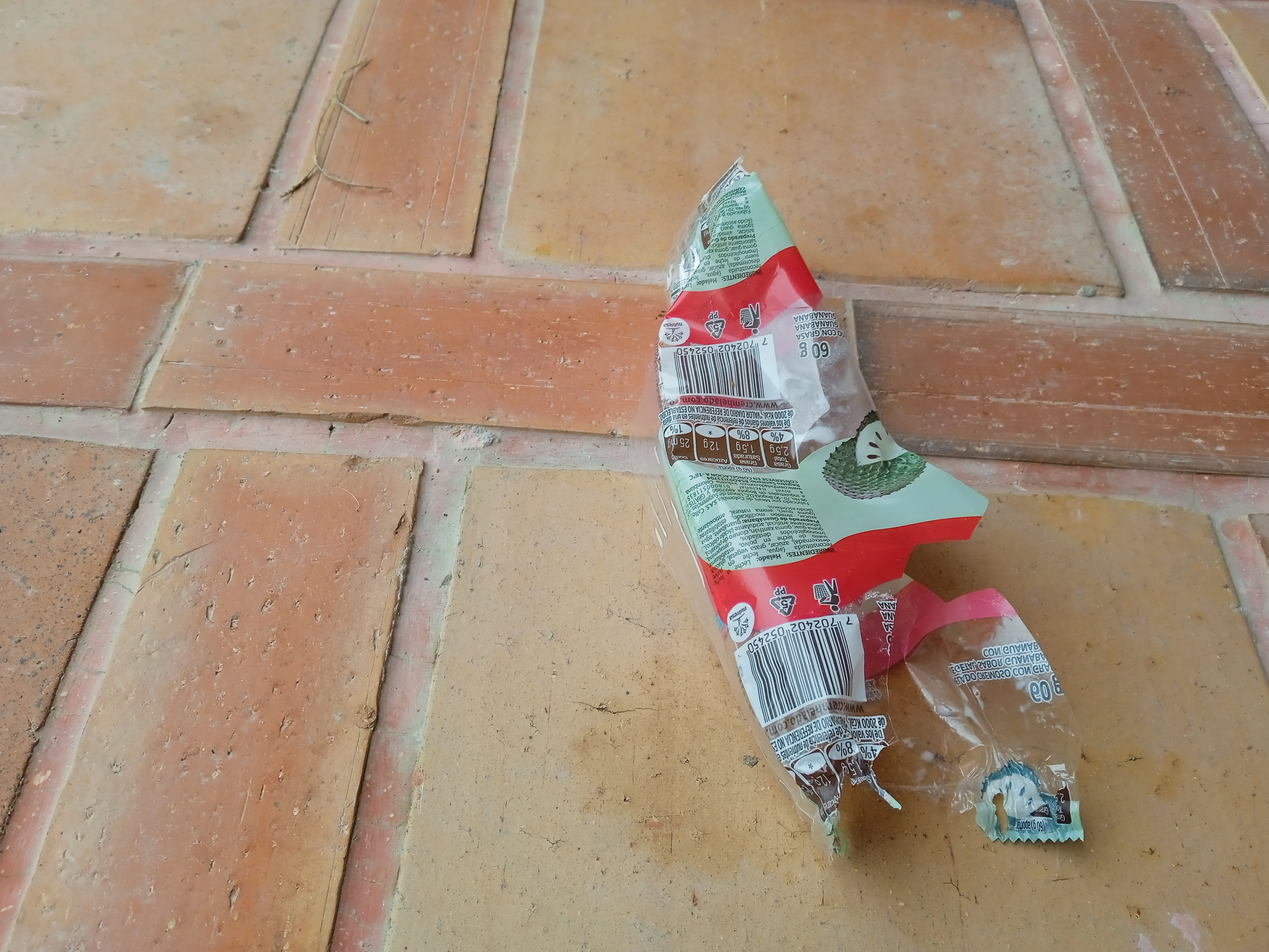plastic: (602, 120, 1136, 875)
